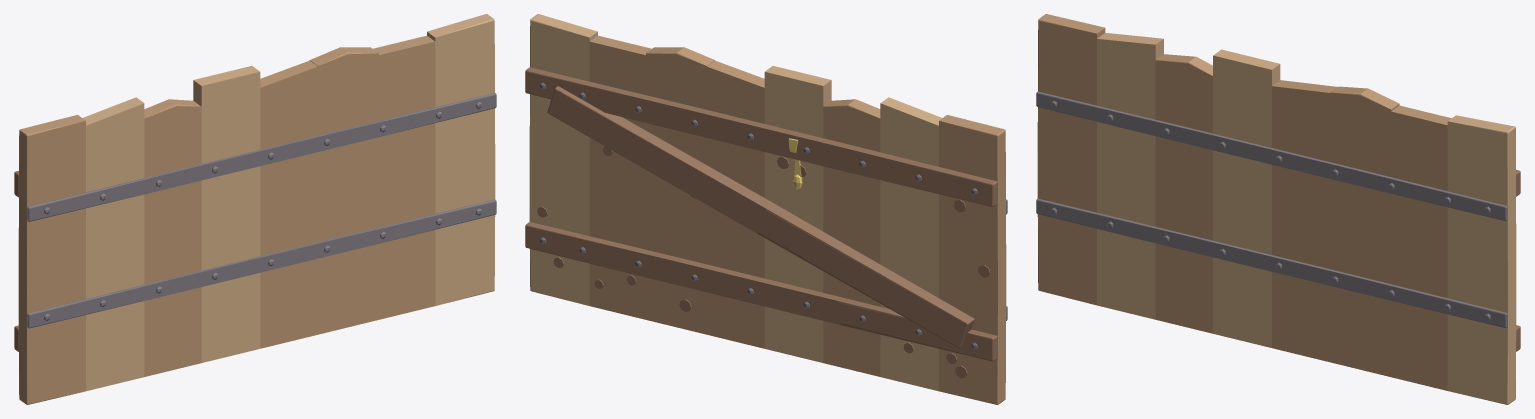
The model's file is Kit_WoodGate.fbx.
3 renders of one model, left to right at view 1: azimuth 30°, elevation 25°; view 2: azimuth 150°, elevation 25°; view 3: azimuth 330°, elevation 25°, orthographic.
Parts seen in each view (by area): view 1: Piece_08, Piece_01, Piece_17, Piece_09, Piece_14, Piece_02, Piece_03, Piece_00, Piece_15, Piece_10, Piece_05, Piece_12 (+12 smaller); view 2: Piece_01, Piece_17, Piece_25, Piece_24, Piece_08, Piece_14, Piece_03, Piece_09, Piece_00, Piece_05, Piece_02, Piece_10 (+14 smaller); view 3: Piece_17, Piece_08, Piece_01, Piece_09, Piece_14, Piece_02, Piece_03, Piece_16, Piece_15, Piece_00, Piece_12, Piece_10 (+12 smaller).
Part boxes in pixels (left/top/right/bottom): Piece_08: left=193, top=66, right=260, bottom=267; Piece_01: left=18, top=114, right=85, bottom=292; Piece_17: left=427, top=14, right=495, bottom=202; Piece_09: left=260, top=172, right=317, bottom=348; Piece_14: left=379, top=153, right=435, bottom=319; Piece_02: left=86, top=233, right=144, bottom=391; Piece_03: left=82, top=97, right=144, bottom=253; Piece_00: left=18, top=275, right=85, bottom=404; Piece_15: left=373, top=35, right=435, bottom=171; Piece_10: left=260, top=60, right=317, bottom=191; Piece_05: left=144, top=160, right=201, bottom=306; Piece_12: left=318, top=121, right=378, bottom=254; Piece_01: left=939, top=115, right=1006, bottom=292; Piece_17: left=529, top=14, right=597, bottom=202; Piece_25: left=547, top=86, right=772, bottom=233; Piece_24: left=756, top=203, right=974, bottom=348; Piece_08: left=764, top=66, right=831, bottom=268; Piece_14: left=589, top=153, right=645, bottom=319; Piece_03: left=880, top=97, right=942, bottom=253; Piece_09: left=707, top=177, right=764, bottom=348; Piece_00: left=939, top=275, right=1006, bottom=404; Piece_05: left=823, top=166, right=880, bottom=303; Piece_02: left=880, top=233, right=938, bottom=391; Piece_10: left=707, top=60, right=764, bottom=189; Piece_17: left=1447, top=115, right=1516, bottom=303; Piece_08: left=1213, top=49, right=1280, bottom=254; Piece_01: left=1037, top=14, right=1105, bottom=190; Piece_09: left=1272, top=185, right=1329, bottom=362; Piece_14: left=1391, top=224, right=1447, bottom=390; Piece_02: left=1097, top=160, right=1155, bottom=319; Piece_03: left=1097, top=33, right=1163, bottom=181; Piece_16: left=1447, top=286, right=1516, bottom=404; Piece_15: left=1391, top=105, right=1451, bottom=242; Piece_00: left=1037, top=175, right=1096, bottom=305; Piece_12: left=1330, top=163, right=1391, bottom=291; Piece_10: left=1272, top=80, right=1336, bottom=204.
Bounding box in the file's own units: 4.6 × 2.6 × 0.3163.
